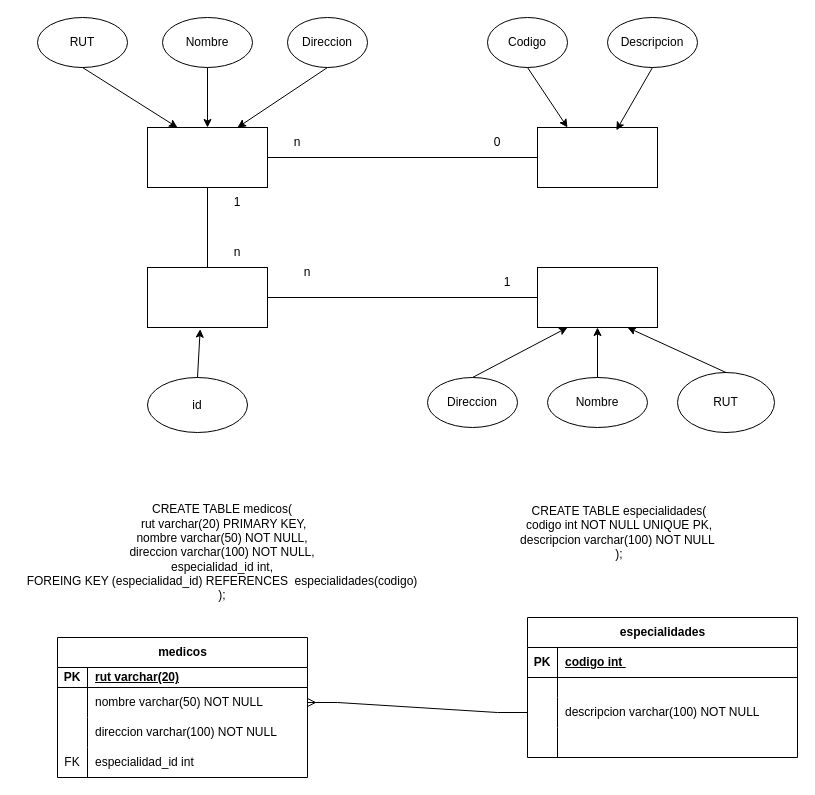
This 815x795 diagram has some shape labels left out. Here are the shapes that lost their labels. From the top down, the centre of each, then its label:
pixel 207 157: Medico
pixel 597 157: Especialidad
pixel 207 297: Consulta
pixel 597 297: Paciente
